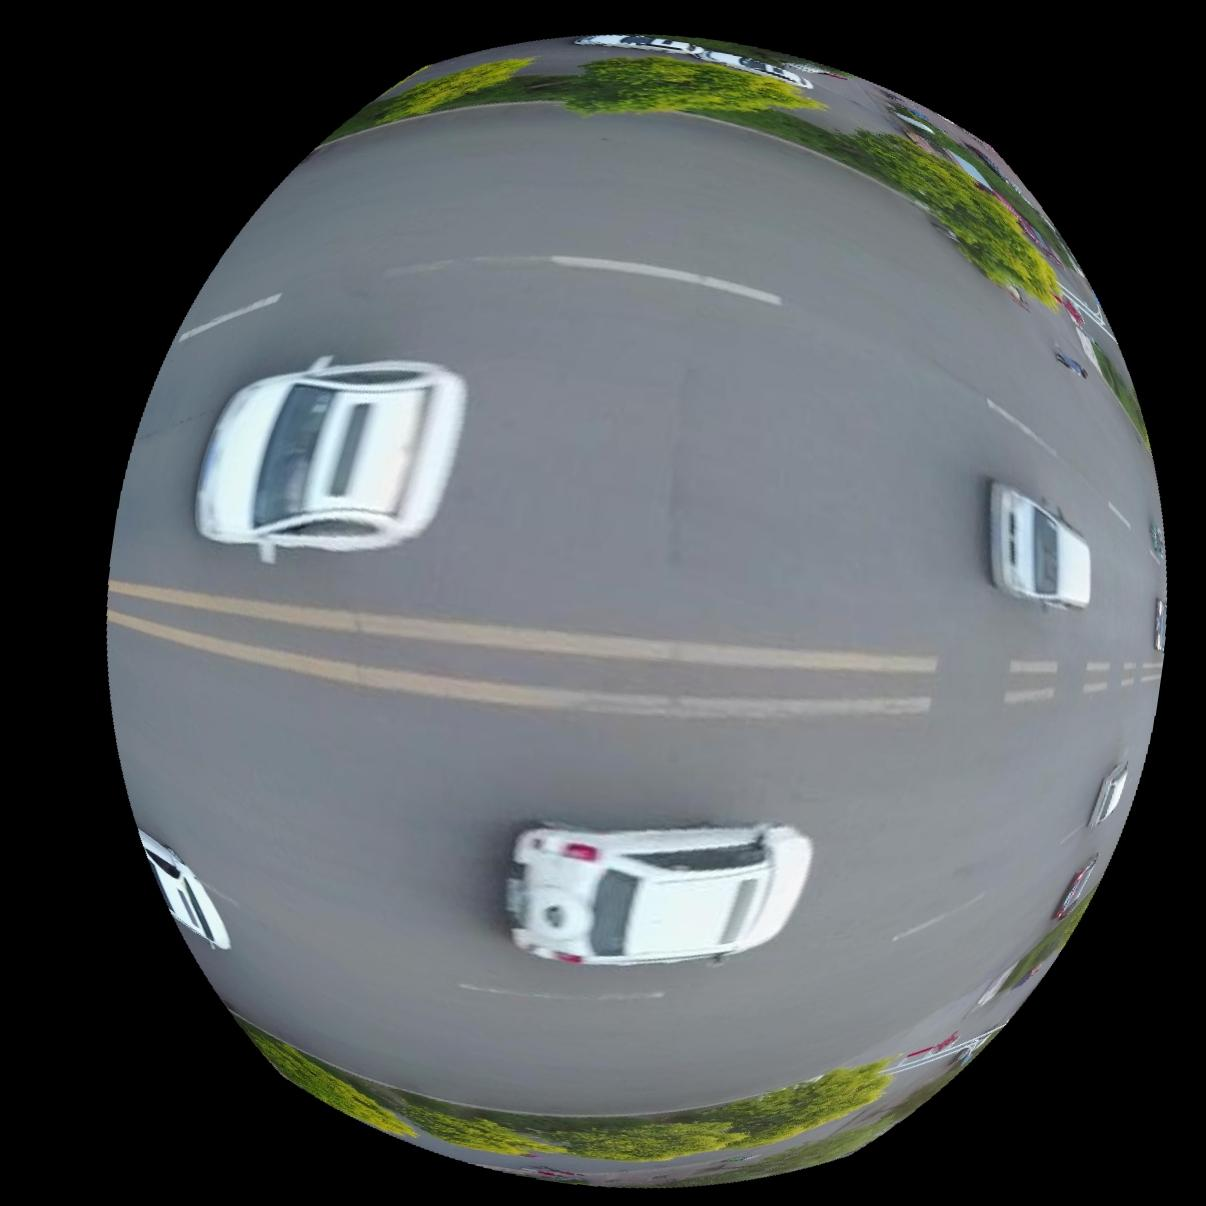cars: (193, 357, 463, 559), (505, 826, 811, 967), (991, 483, 1090, 609), (136, 832, 228, 950), (1089, 763, 1129, 828)
trees: (330, 54, 1061, 309), (240, 1025, 891, 1165)
